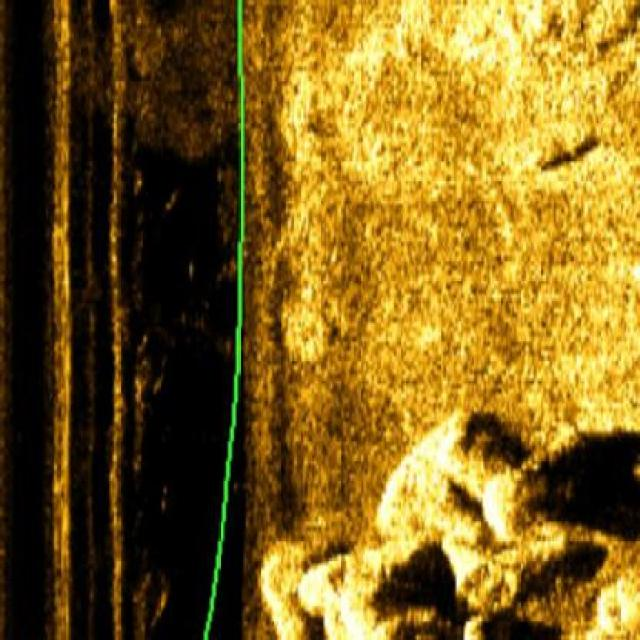bedrock group: (250, 399, 639, 639)
